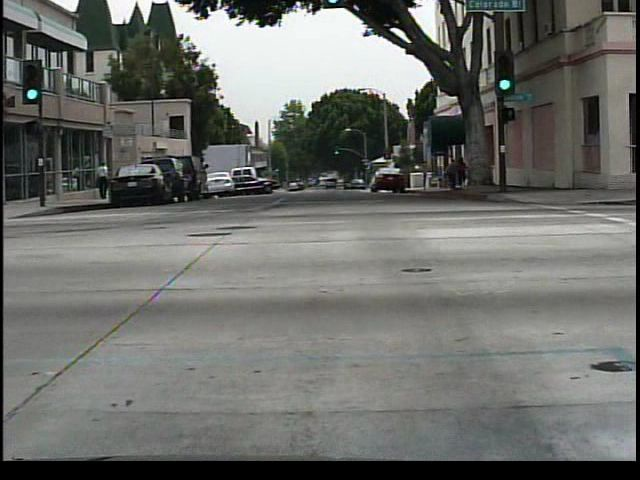person: (453, 153, 478, 201), (97, 155, 111, 205), (442, 159, 460, 193)
